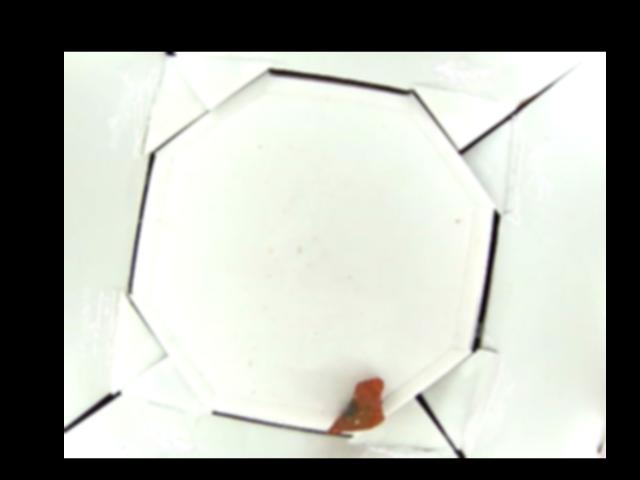Brisk: (327, 374, 386, 433)
